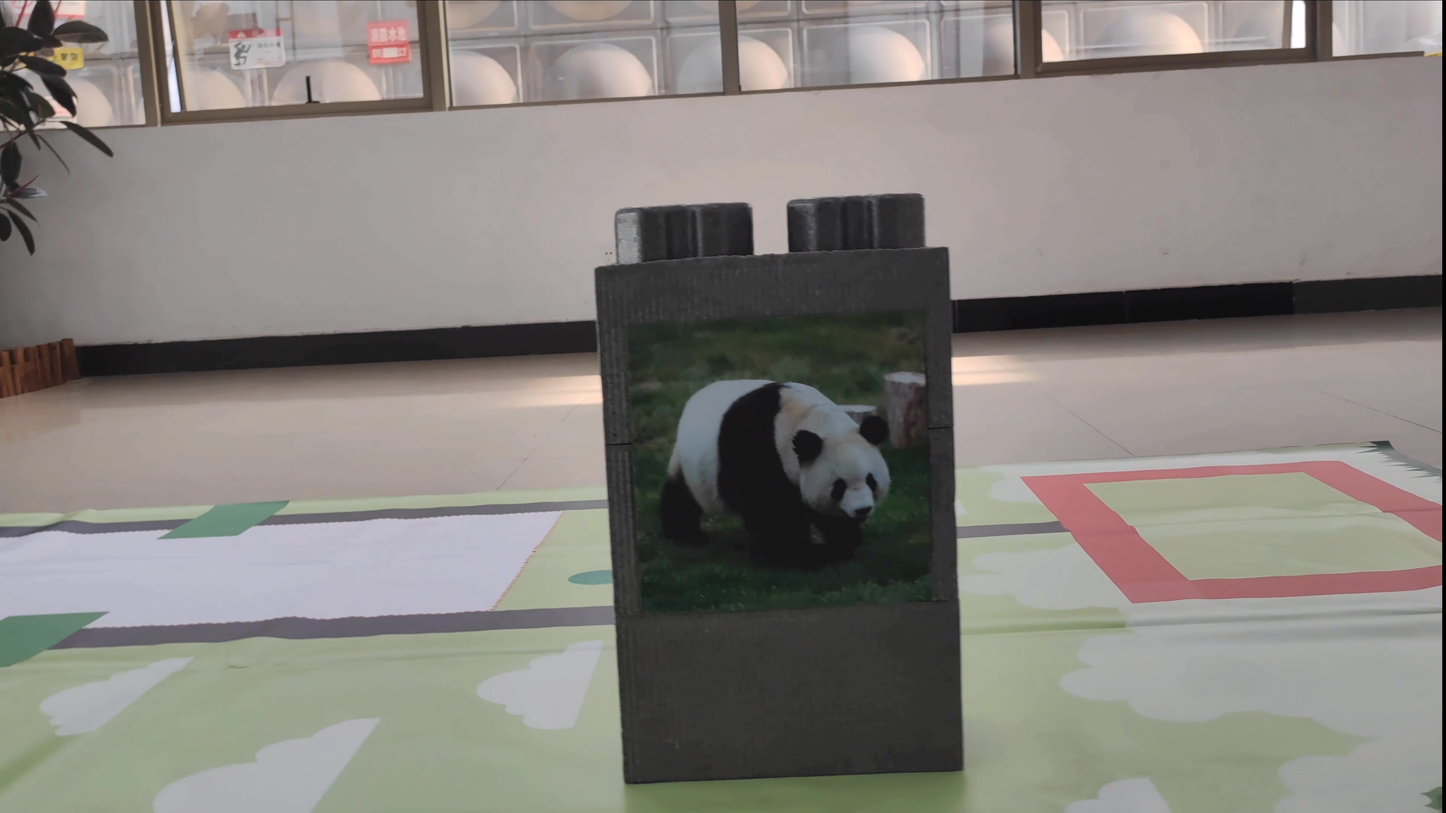panda: (629, 352, 908, 582)
